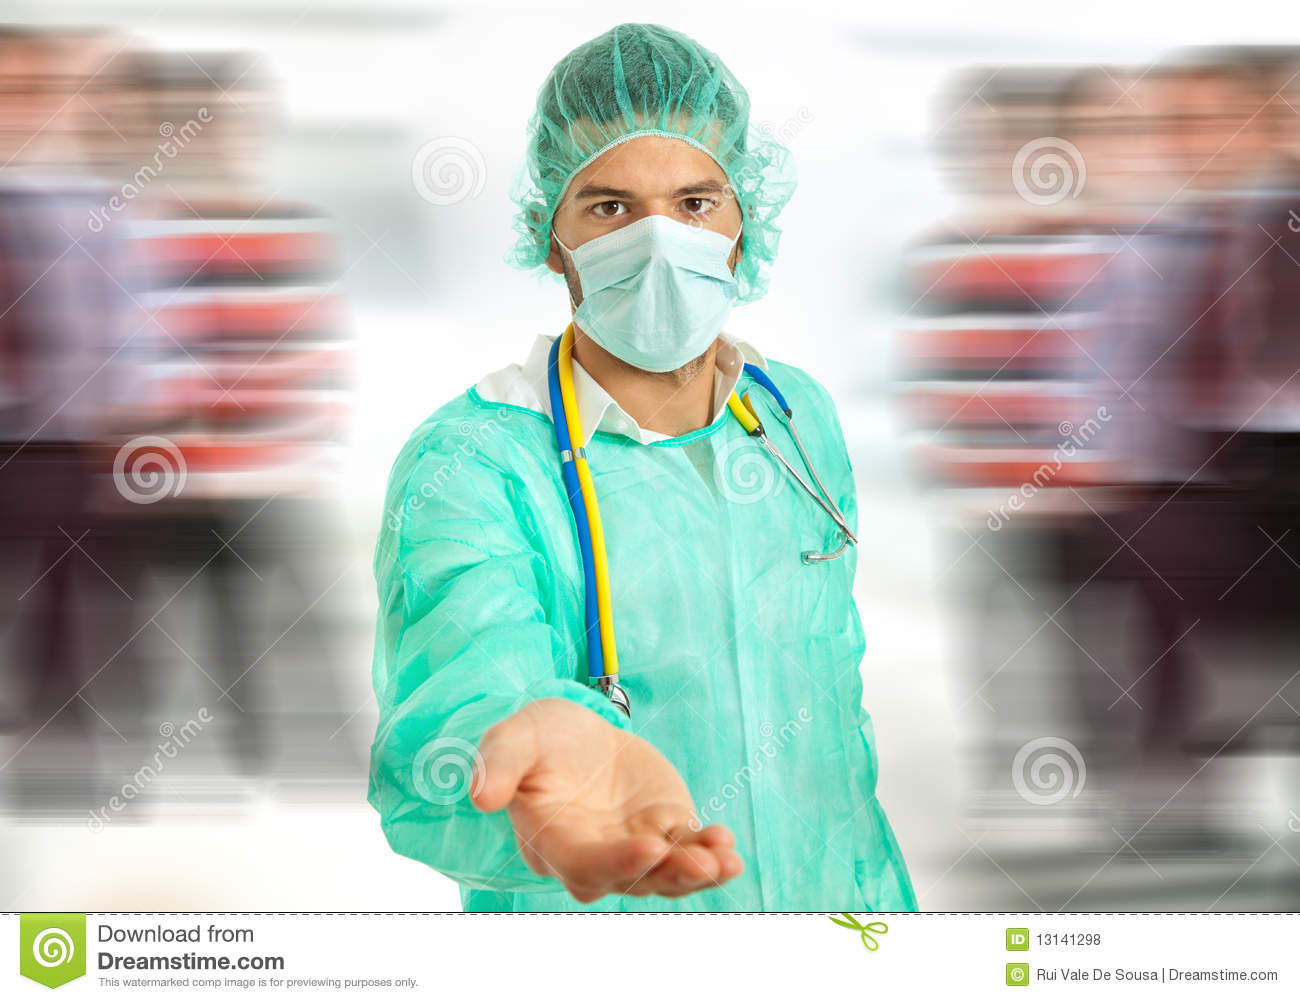mask: (567, 231, 739, 366)
